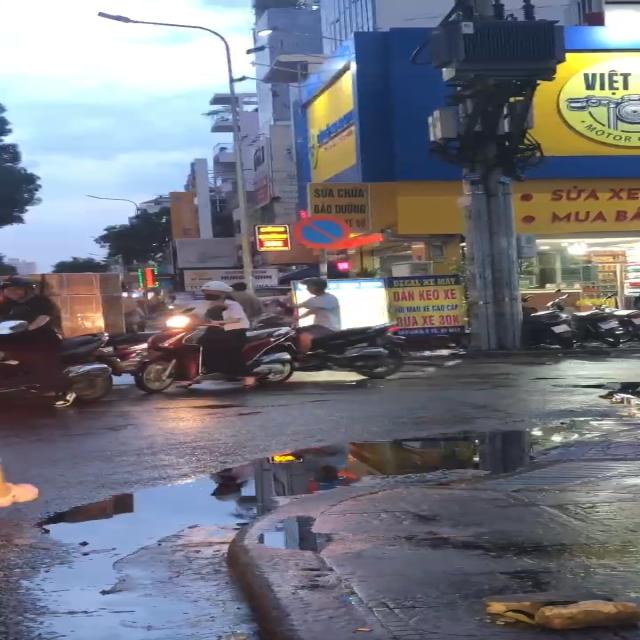Bien bao cam do xe: (290, 216, 356, 250)
